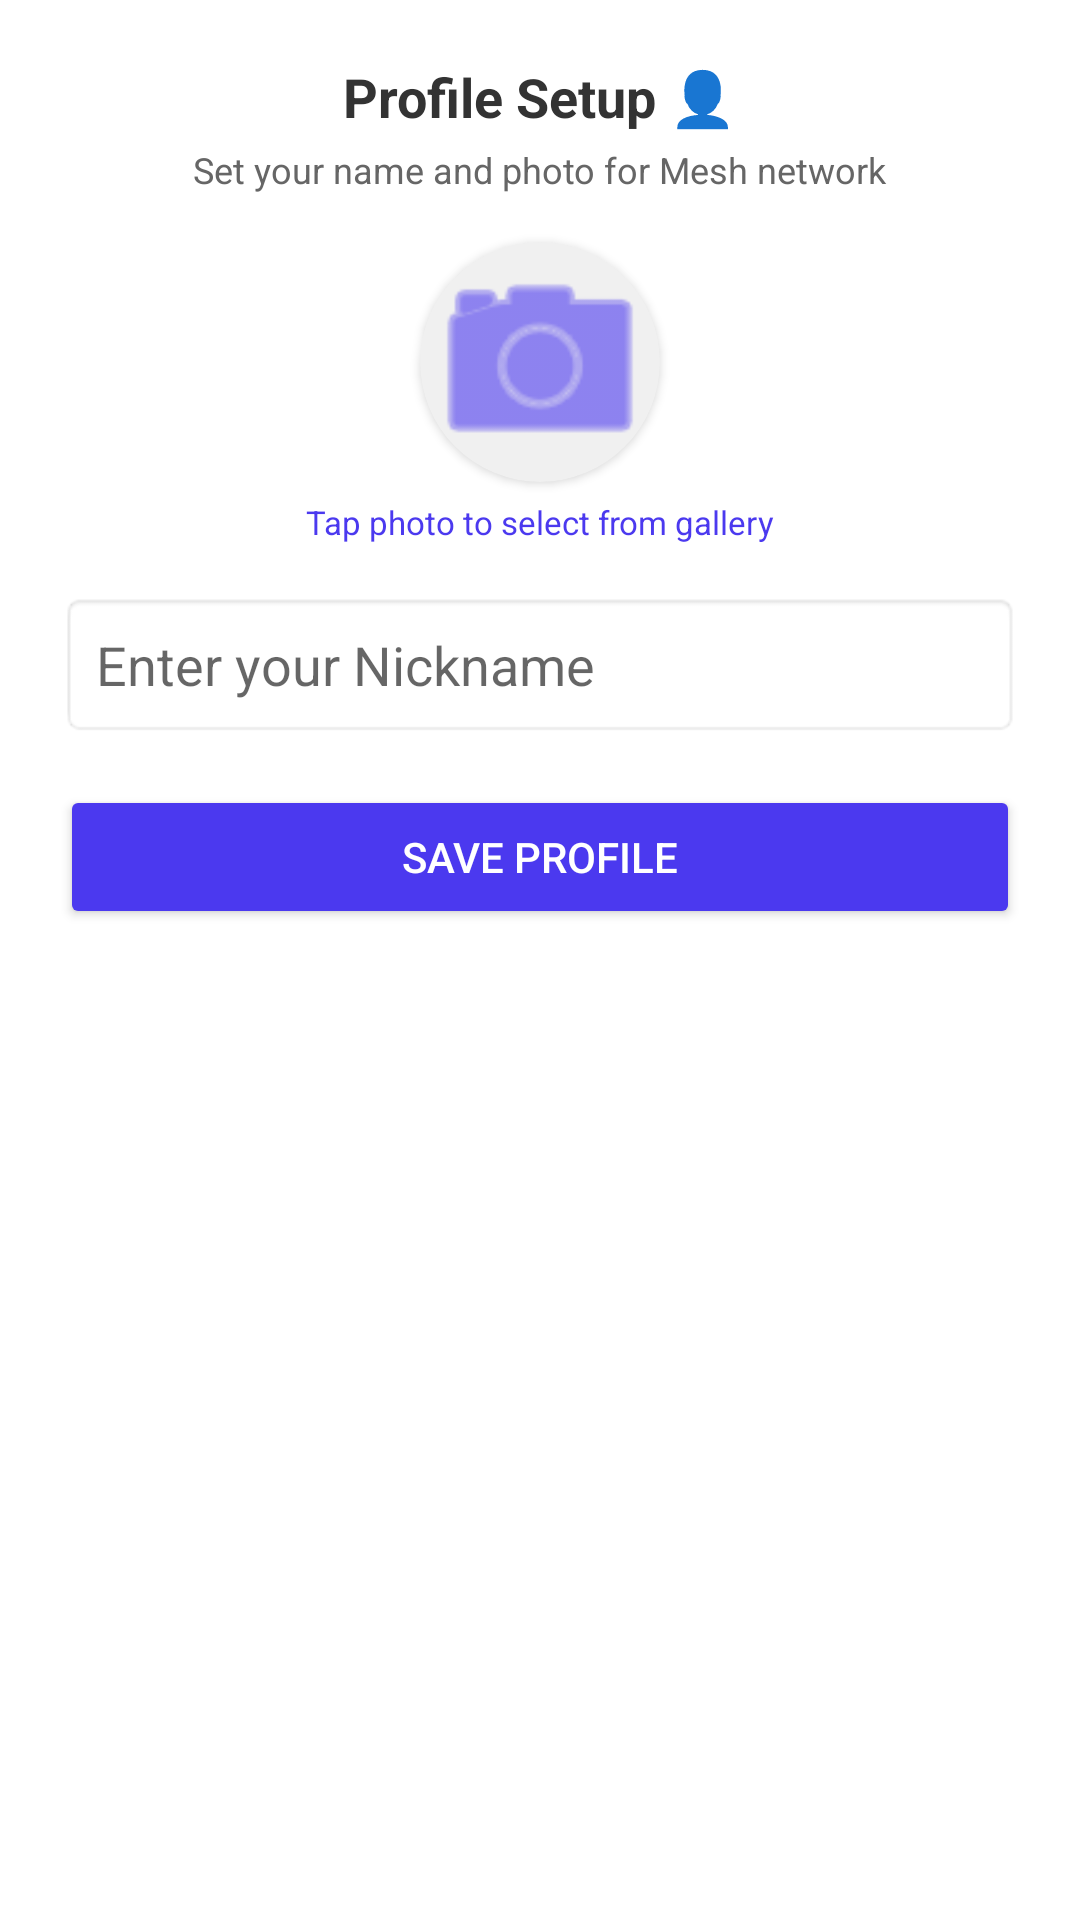

Point at icon controls on the screen. Image size 1080w x 1920h, points as (x=x, y=y).
camera: (x=540, y=380)
